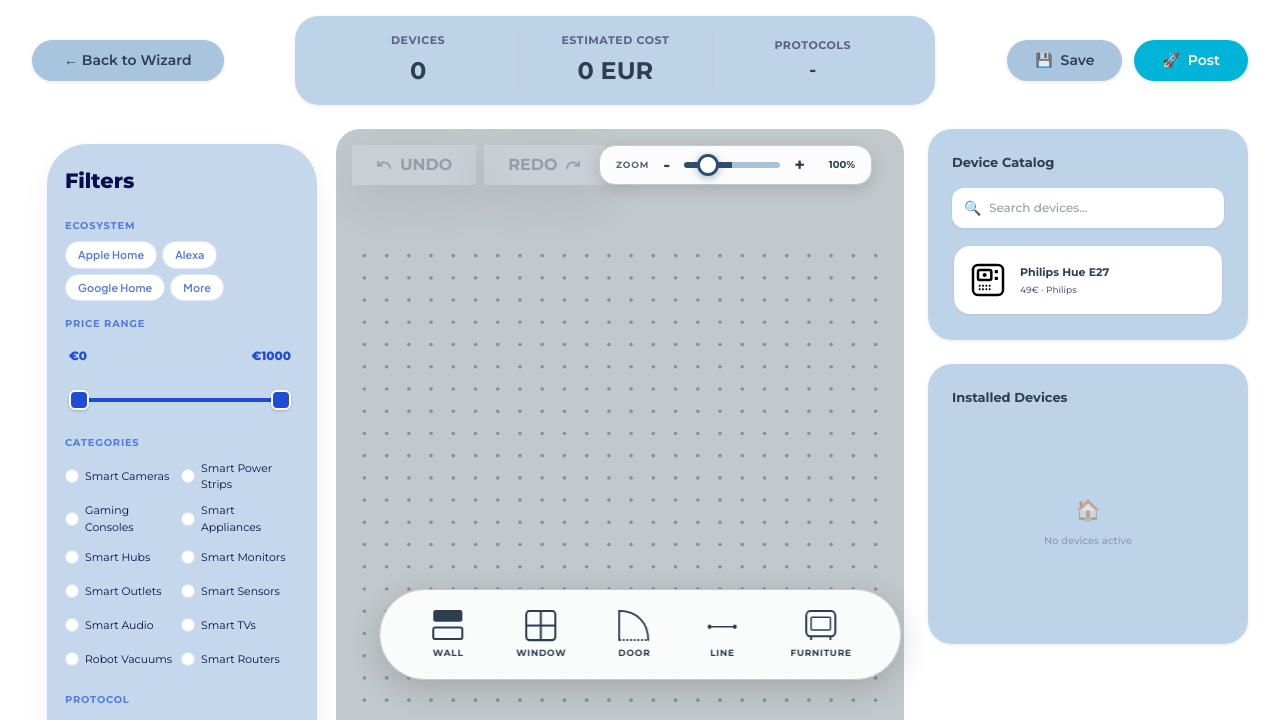
LayoutCanvas - Suita de Testare › Filtrează corect lista de device-uri folosind bara de search
expect the text "Philips Hue E27" is shown: met, box x1=1020 y1=264 x2=1109 y2=280
Type "Hue" into the field with placeholder "Search devices...". click: (1088, 208)
box: x1=952 y1=188 x2=1224 y2=228
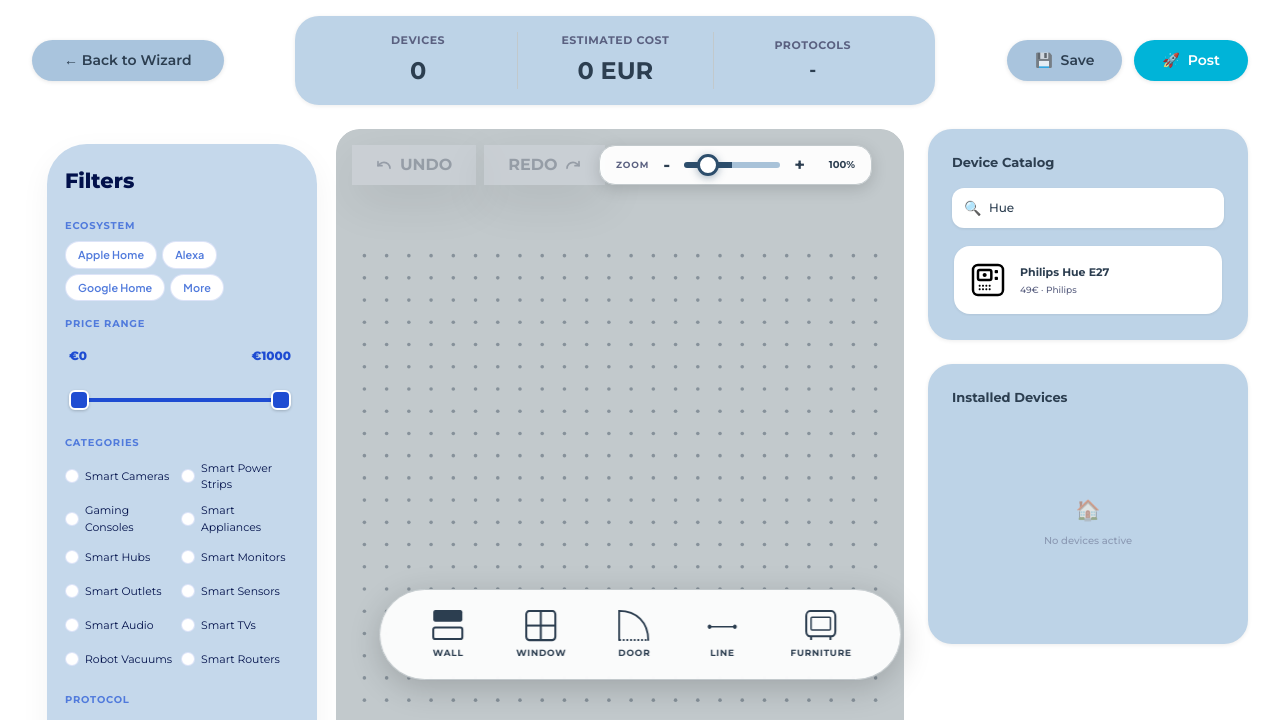
expect the text "Philips Hue E27" is shown: met, box x1=1020 y1=264 x2=1109 y2=280
Replace the text in the field with placeholder "Search devices..." with "Senzor_Inexistent". click: (1088, 208)
box: x1=952 y1=188 x2=1224 y2=228
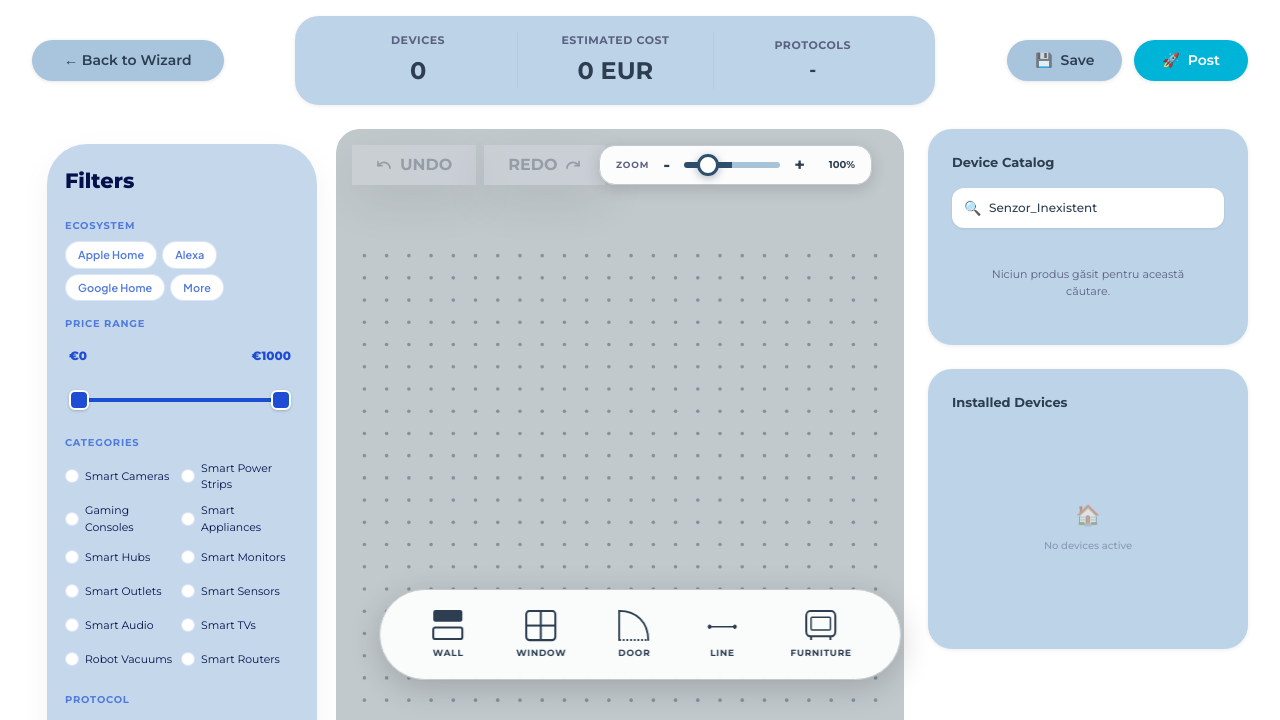
expect the text "Philips Hue E27" is gone: met
